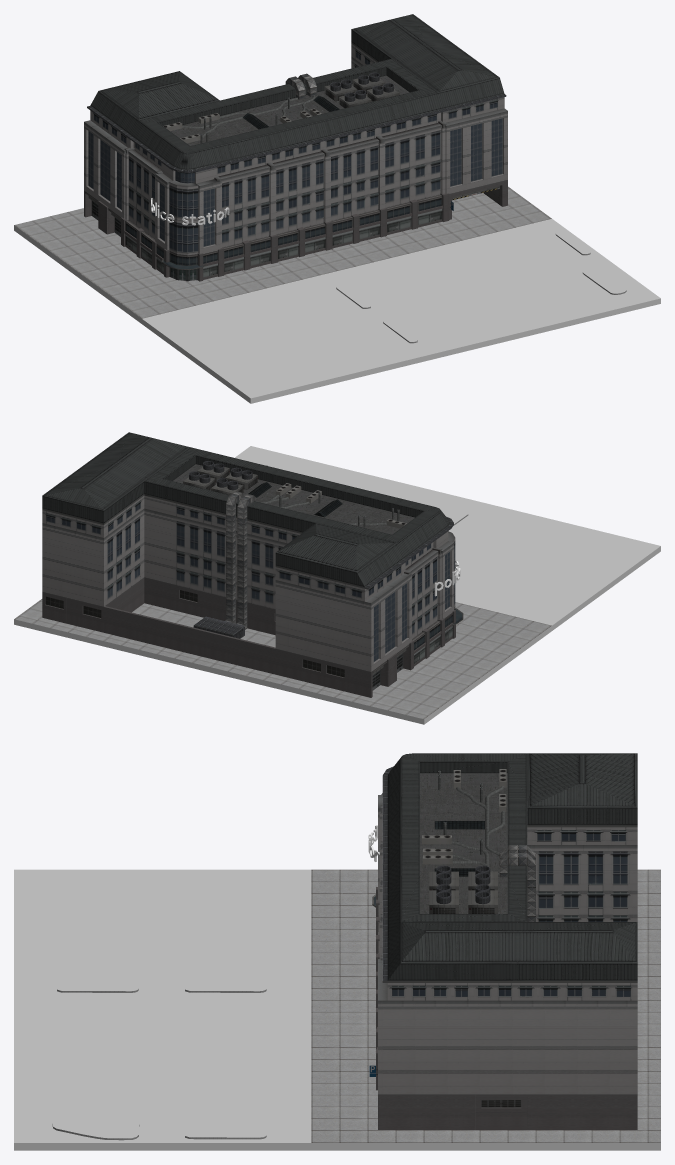
Rendered from police station.fbx.
3 renders of one model, top to bottom at view 1: azimuth 30°, elevation 25°; view 2: azimuth 150°, elevation 25°; view 3: azimuth 270°, elevation 25°, orthographic. The views are drawn at different scales.
Parts seen in each view (by area): view 1: police station, parking, grass; view 2: police station, parking; view 3: parking, police station, grass.
Part boxes in pixels (<box>): police station: <box>84,14,507,281</box>; parking: <box>14,186,660,403</box>; grass: <box>336,231,626,343</box>; police station: <box>42,432,463,697</box>; parking: <box>14,446,660,724</box>; parking: <box>14,869,660,1150</box>; police station: <box>369,753,637,1129</box>; grass: <box>52,985,266,1140</box>.
Bounding box in the file's own units: 39.37 × 12.48 × 39.37.
